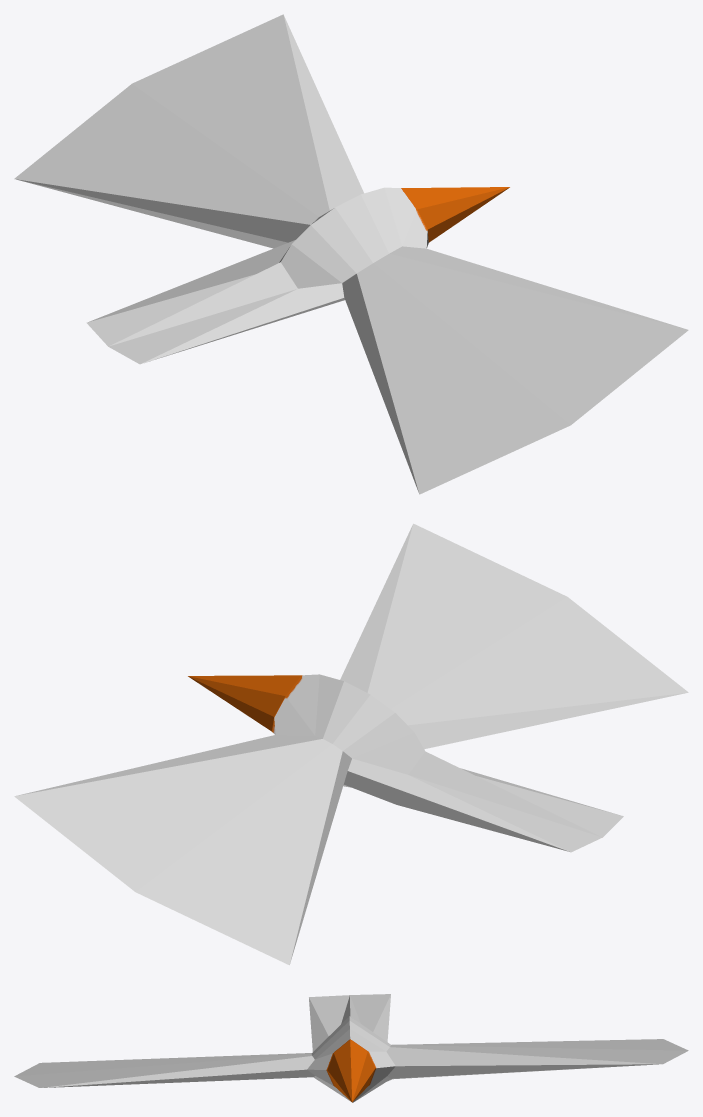
The model's file is Seagull.fbx.
3 views of the same model, one above another, from view 1: azimuth 30°, elevation 25°; view 2: azimuth 150°, elevation 25°; view 3: azimuth 270°, elevation 25° (orthographic). The views are drawn at different scales.
Visible parts, largest first — view 1: ShittyBird:pSphere1; view 2: ShittyBird:pSphere1; view 3: ShittyBird:pSphere1.
Boxes of the visible parts, x1,y1,x2,y2 form: ShittyBird:pSphere1: (14, 14, 688, 494); ShittyBird:pSphere1: (14, 523, 688, 965); ShittyBird:pSphere1: (14, 994, 688, 1102).
Bounding box in the file's own units: 5.82 × 1.73 × 10.74.
